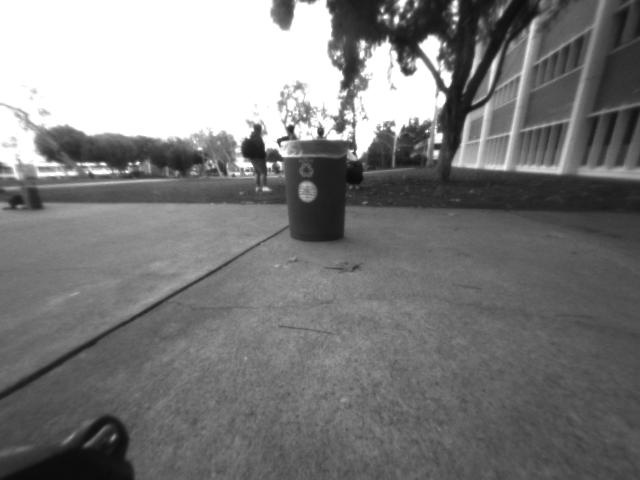trashcan_open: (276, 135, 358, 249)
